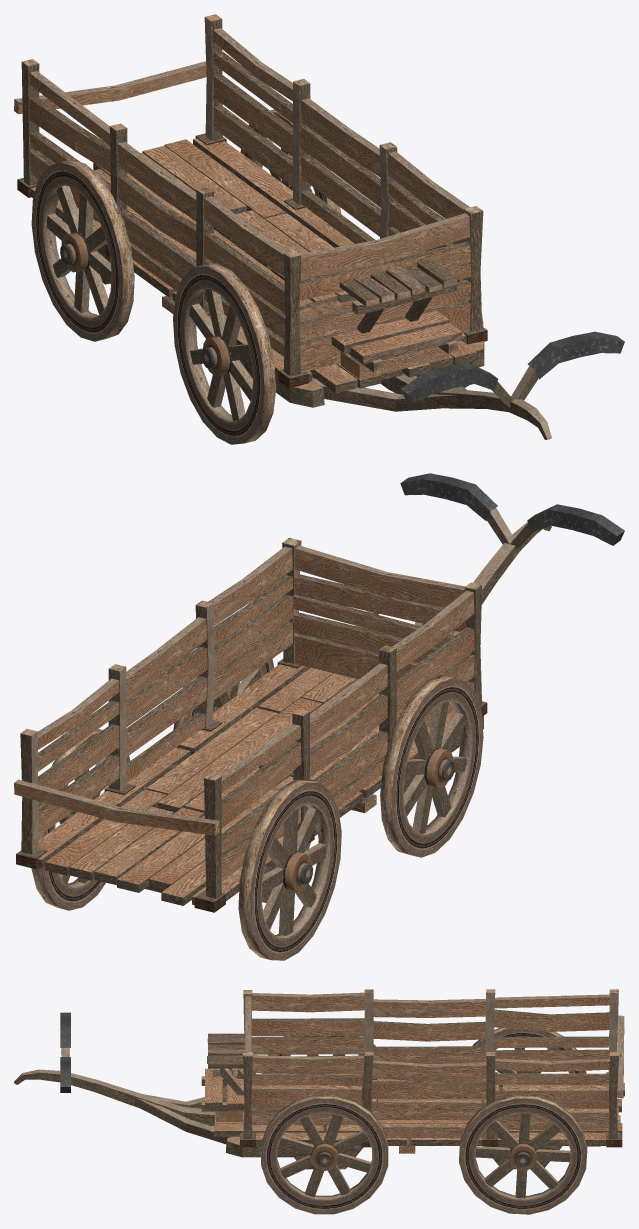
Rendered from wagon.glb.
3 views of the same model, one above another, from view 1: azimuth 30°, elevation 25°; view 2: azimuth 150°, elevation 25°; view 3: azimuth 270°, elevation 25° (orthographic). The views are drawn at different scales.
Visible parts, largest first — view 1: wagon_four_wheel_empty; view 2: wagon_four_wheel_empty; view 3: wagon_four_wheel_empty.
Boxes of the visible parts, <box> form: wagon_four_wheel_empty: <box>14,14,624,444</box>; wagon_four_wheel_empty: <box>14,473,624,960</box>; wagon_four_wheel_empty: <box>14,989,624,1214</box>.
Size of the model in its own units: 2.1 by 1.82 by 6.5.
1 material, 1 textured.
